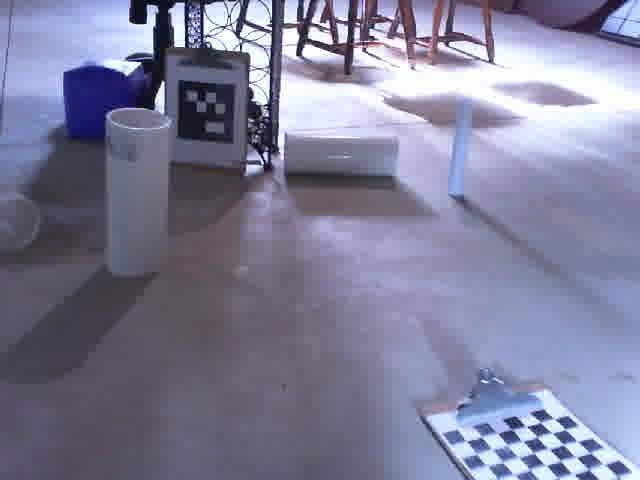coral: (101, 104, 173, 280), (278, 130, 405, 177), (0, 175, 41, 254)
